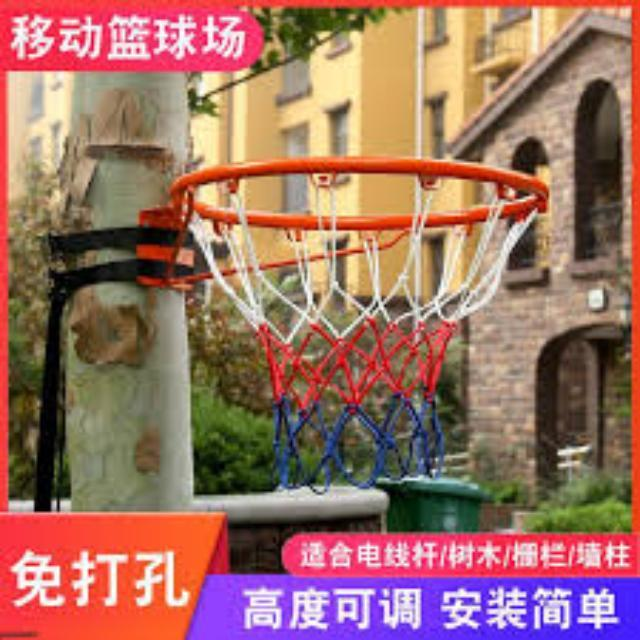rim: (176, 158, 548, 488)
